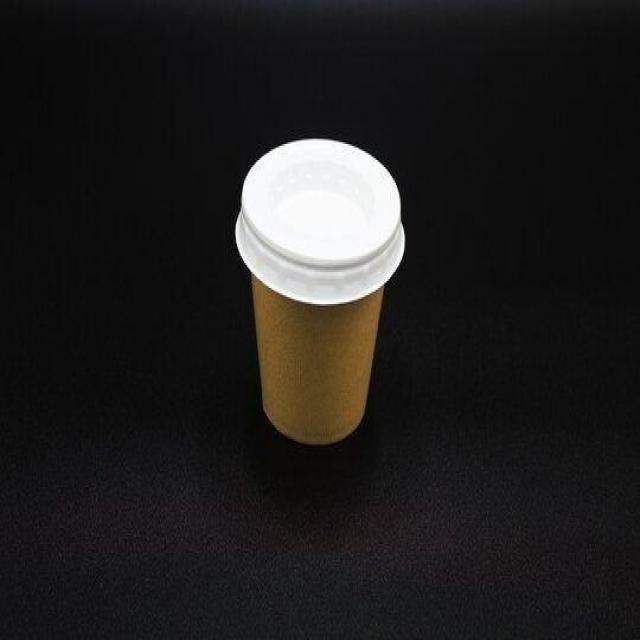cup-disposable: (234, 133, 406, 448)
